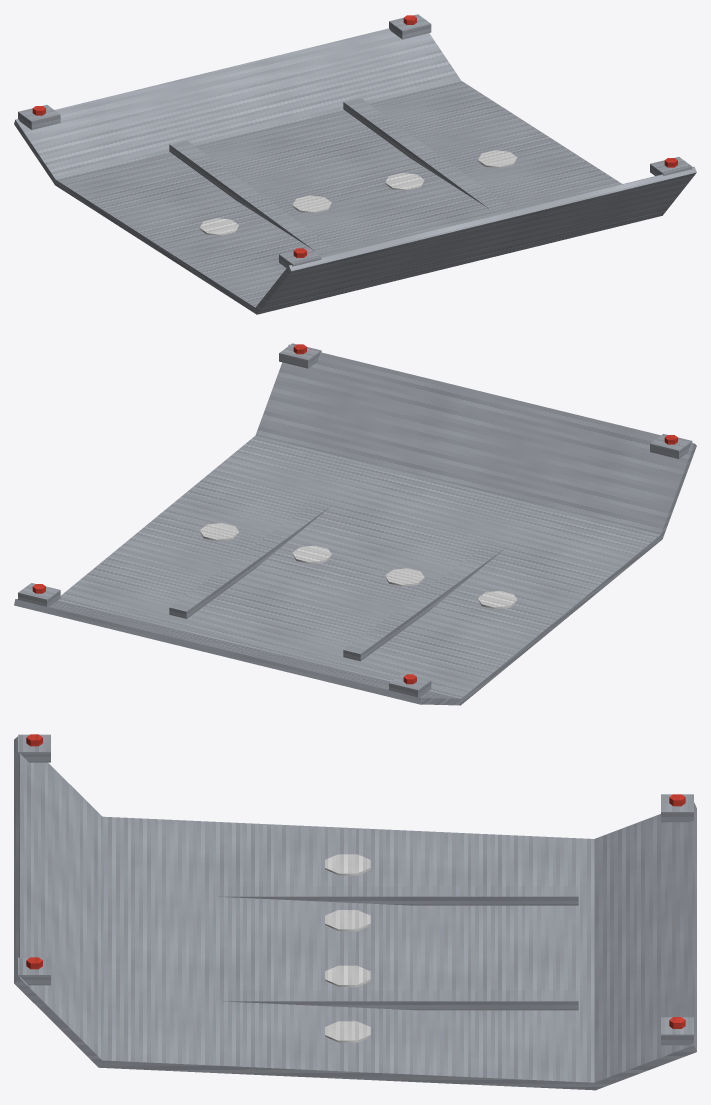
Rendered from protetor_n4.glb.
3 views of the same model, one above another, from view 1: azimuth 30°, elevation 25°; view 2: azimuth 150°, elevation 25°; view 3: azimuth 270°, elevation 25° (orthographic). The views are drawn at different scales.
Visible parts, largest first — view 1: protetor_n4; view 2: protetor_n4; view 3: protetor_n4.
Part boxes in pixels (left/top/right/bottom): protetor_n4: left=14, top=14, right=696, bottom=314; protetor_n4: left=14, top=343, right=696, bottom=705; protetor_n4: left=14, top=734, right=696, bottom=1090.
Bounding box in the file's own units: 0.7 × 0.1604 × 0.8288.
2 materials, 2 textured.
